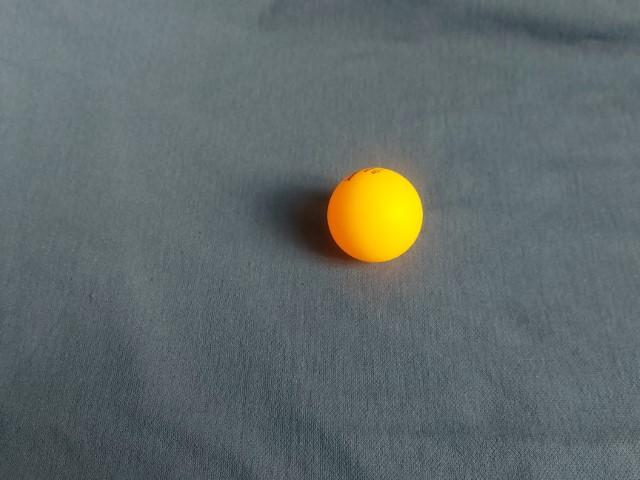oball: (321, 164, 425, 267)
